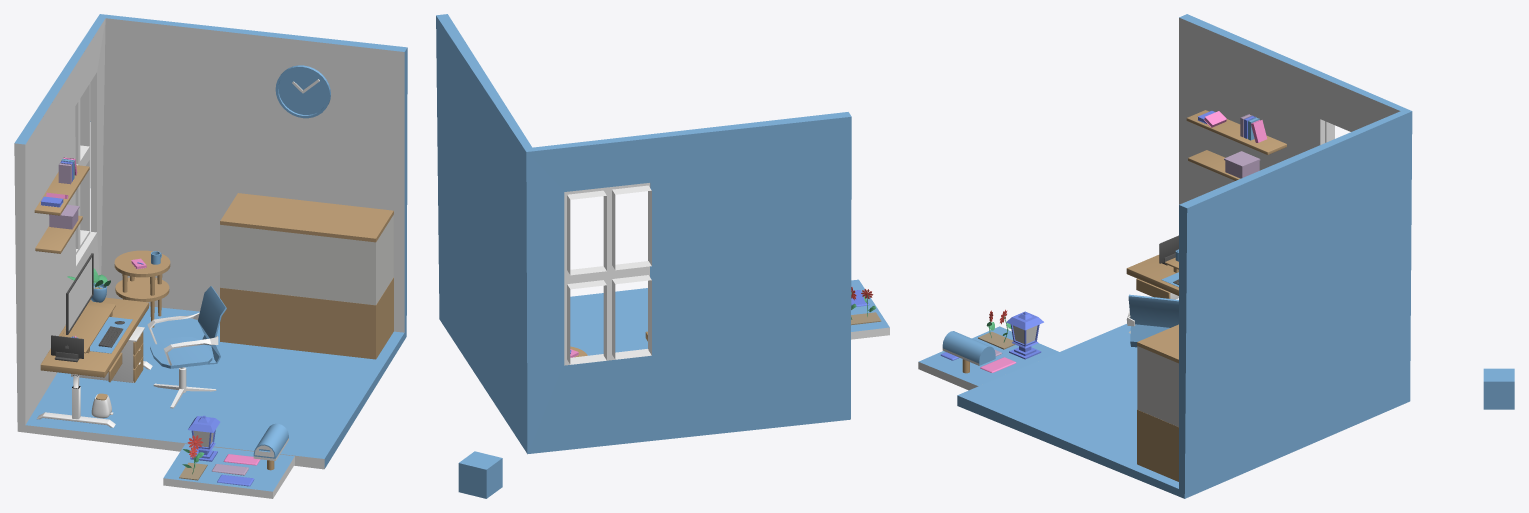
File: PortfolioD.glb
The picture shows the model from 3 angles, left to right: view 1: azimuth 30°, elevation 25°; view 2: azimuth 150°, elevation 25°; view 3: azimuth 270°, elevation 25°; orthographic projection. The views are drawn at different scales.
Parts seen in each view (by area): view 1: Body, FishTank, desks, Mini_Floor, Chair, Table_stuff, shelf, clock, Floor_items, Monitor, Mail_Box, Lamp; view 2: Body, Cube, Mini_Floor; view 3: Body, FishTank, shelf, Mini_Floor, Chair, desks, Cube, Mail_Box, Lamp.
Part boxes in pixels (x1,y1,x2,y2): Body: (14, 14, 407, 469); FishTank: (220, 193, 393, 359); desks: (37, 250, 170, 427); Mini_Floor: (163, 444, 294, 498); Chair: (147, 286, 226, 368); Table_stuff: (51, 251, 161, 362); shelf: (34, 157, 89, 253); clock: (275, 65, 330, 118); Floor_items: (91, 326, 216, 418); Monitor: (66, 253, 93, 334); Mail_Box: (253, 423, 288, 470); Lamp: (188, 415, 220, 461); Body: (436, 14, 851, 454); Cube: (458, 451, 502, 498); Mini_Floor: (851, 279, 889, 339); Body: (957, 14, 1412, 498); FishTank: (1137, 324, 1178, 481); shelf: (1186, 110, 1286, 180); Mini_Floor: (918, 326, 1058, 390); Chair: (1126, 294, 1178, 347); desks: (1126, 255, 1178, 333); Cube: (1483, 368, 1514, 409); Mail_Box: (942, 331, 995, 373); Lamp: (1006, 311, 1043, 359).
Size of the model in its own units: 13.62 by 9.63 by 17.66.
